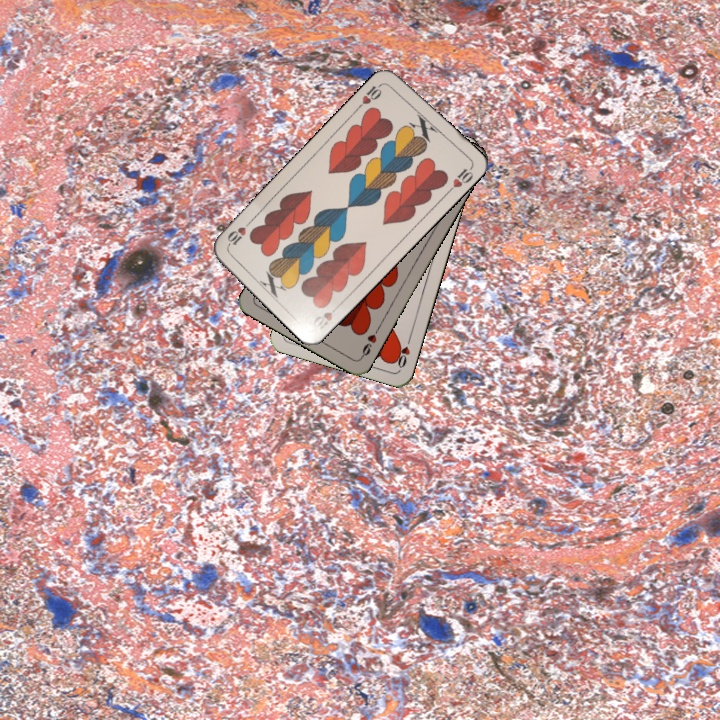H10: (309, 301, 343, 335), (354, 79, 386, 111)
H9: (357, 324, 382, 361)
HO: (392, 332, 414, 371)
